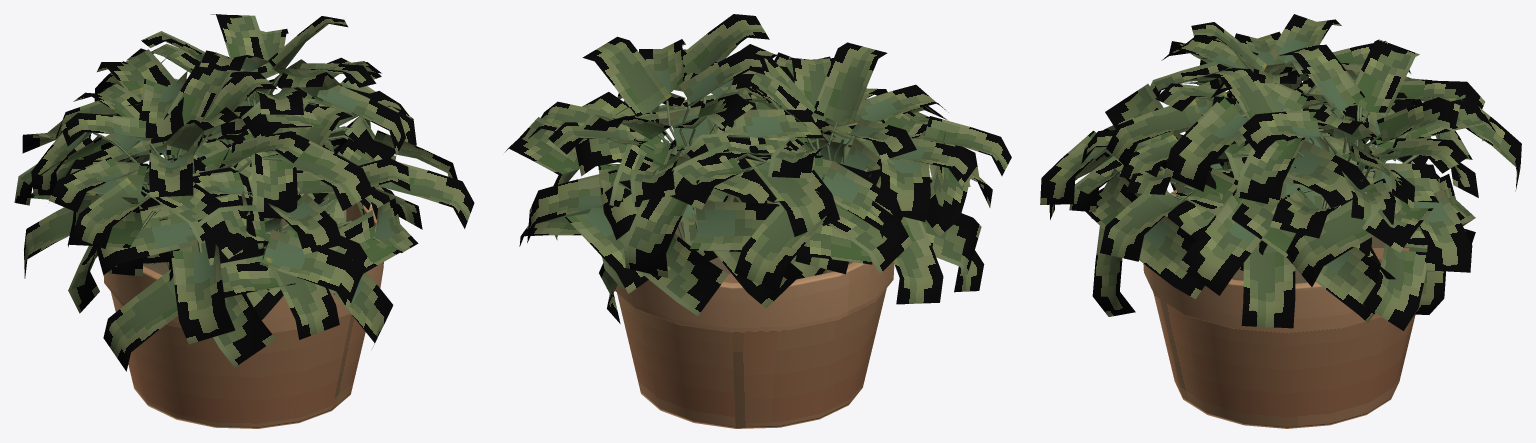
The model's file is a_com_house_a01_plant02_orange.gltf.
3 views of the same model, side by side, from view 1: azimuth 30°, elevation 25°; view 2: azimuth 150°, elevation 25°; view 3: azimuth 270°, elevation 25° (orthographic). The views are drawn at different scales.
Visible parts, largest first — view 1: um_a_com_house_a01_plant02_model_a_com_house_a01_plant02_mod (×2); view 2: um_a_com_house_a01_plant02_model_a_com_house_a01_plant02_mod (×2); view 3: um_a_com_house_a01_plant02_model_a_com_house_a01_plant02_mod (×2).
Boxes of the visible parts, x1,y1,x2,y2 form: um_a_com_house_a01_plant02_model_a_com_house_a01_plant02_mod (×2): [14, 14, 474, 428]; um_a_com_house_a01_plant02_model_a_com_house_a01_plant02_mod (×2): [504, 14, 1011, 428]; um_a_com_house_a01_plant02_model_a_com_house_a01_plant02_mod (×2): [1040, 14, 1521, 428].
Size of the model in its own units: 0.5841 by 0.4566 by 0.6052.
Materials: 2 (2 with a texture image).
